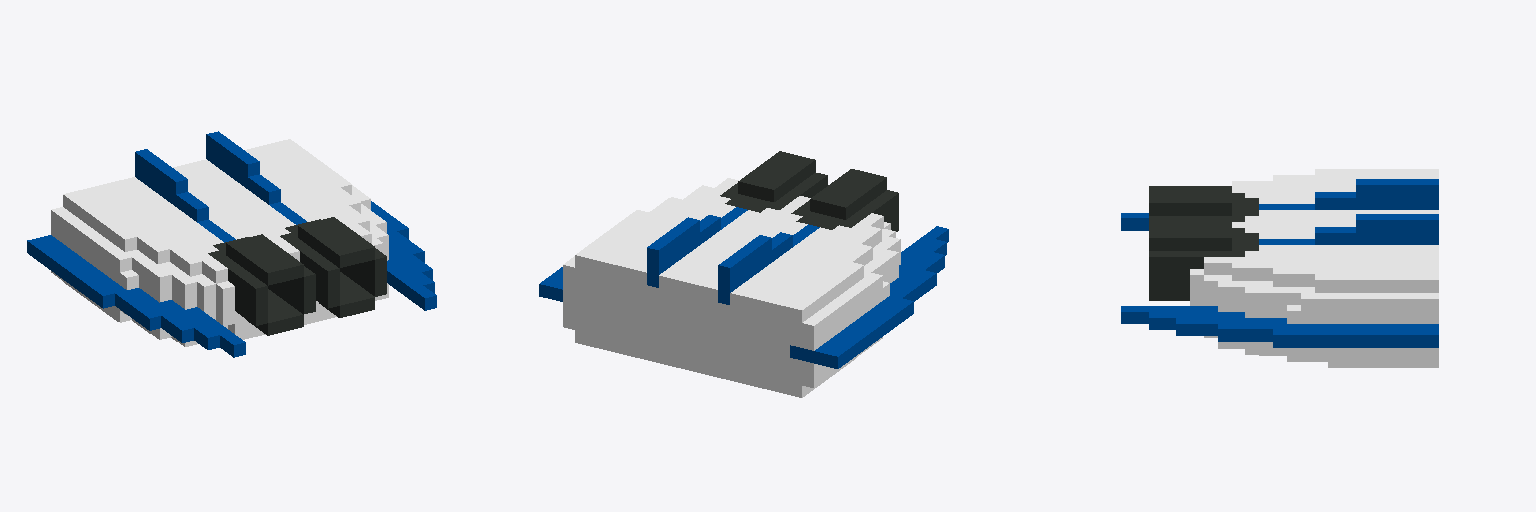
3 views of the same model, side by side, from view 1: azimuth 30°, elevation 25°; view 2: azimuth 150°, elevation 25°; view 3: azimuth 270°, elevation 25° (orthographic).
Parts seen in each view (by area): view 1: object 1; view 2: object 1; view 3: object 1.
Boxes of the visible parts, box(x1,y1,x2,y2) form: object 1: box(27, 131, 436, 357); object 1: box(539, 151, 948, 397); object 1: box(1121, 169, 1438, 367).
Size of the model in its own units: 2.5 by 0.9 by 2.3.
Materials: 1 (1 with a texture image).